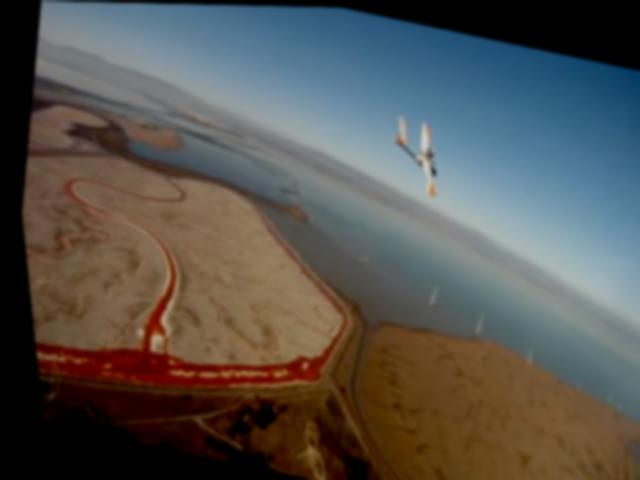uav: (371, 105, 454, 204)
